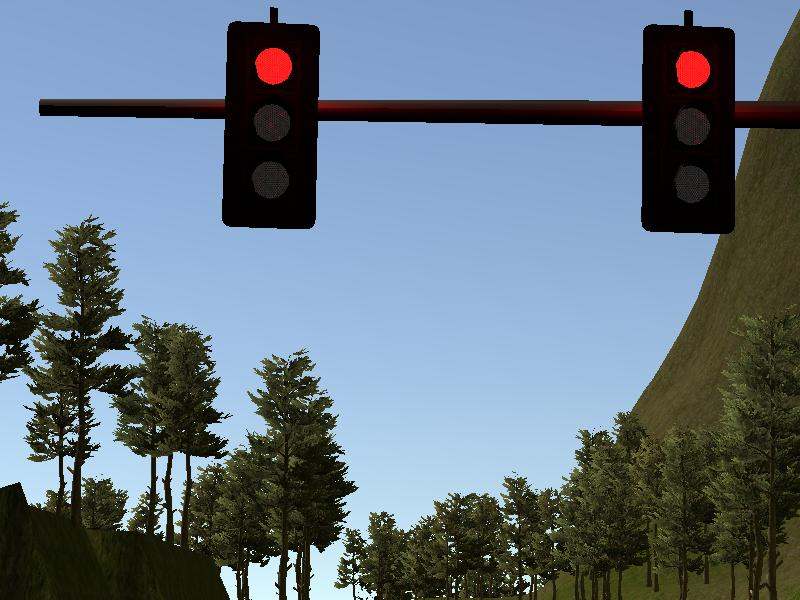Red: (646, 22, 733, 233), (229, 20, 316, 229)
